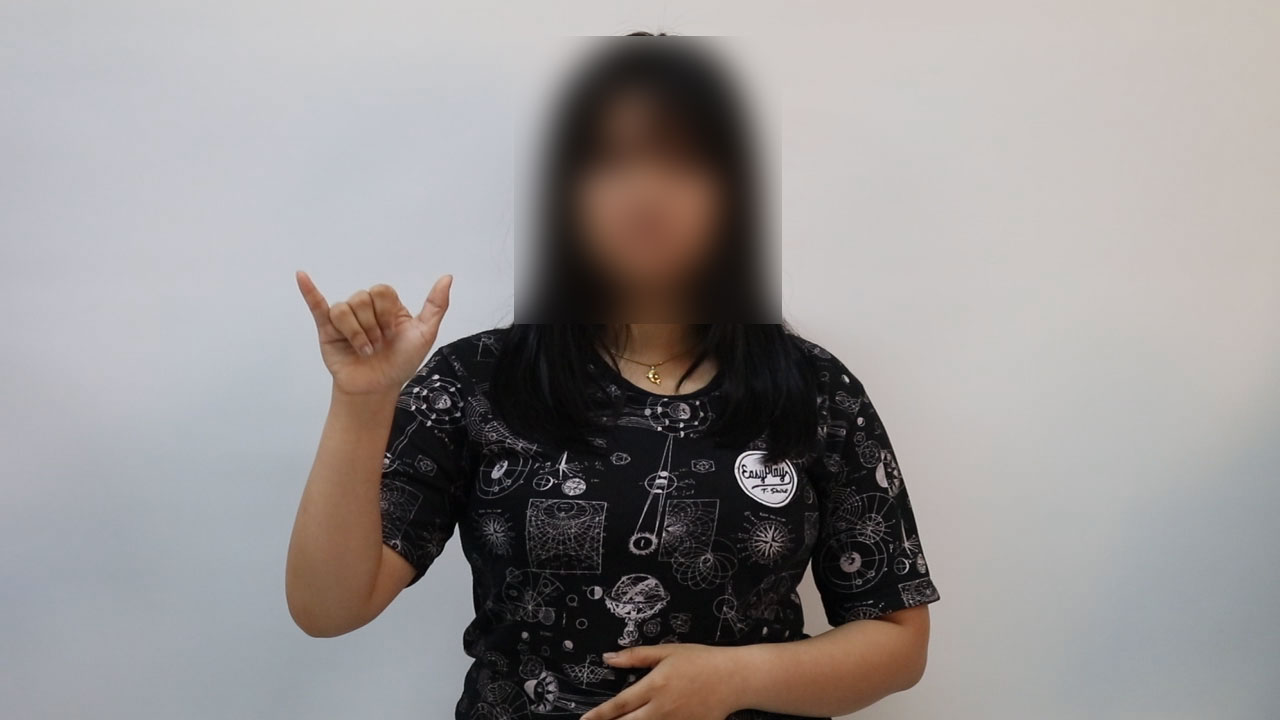yor: (286, 261, 465, 402)
